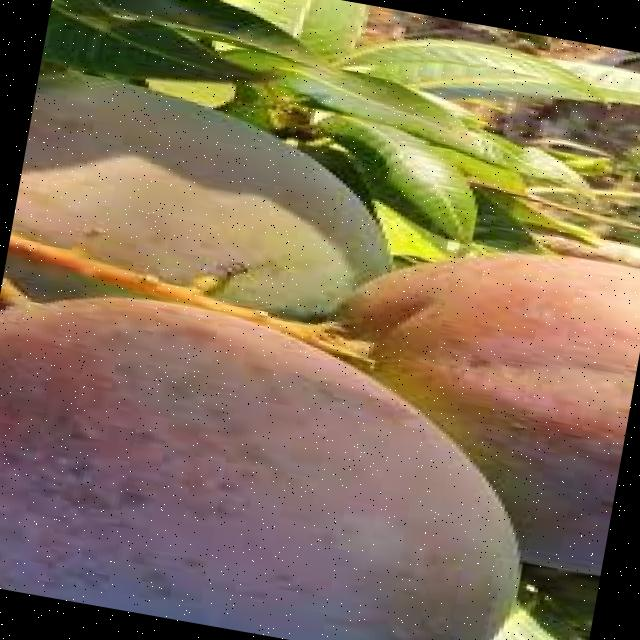mango: (0, 295, 520, 640)
